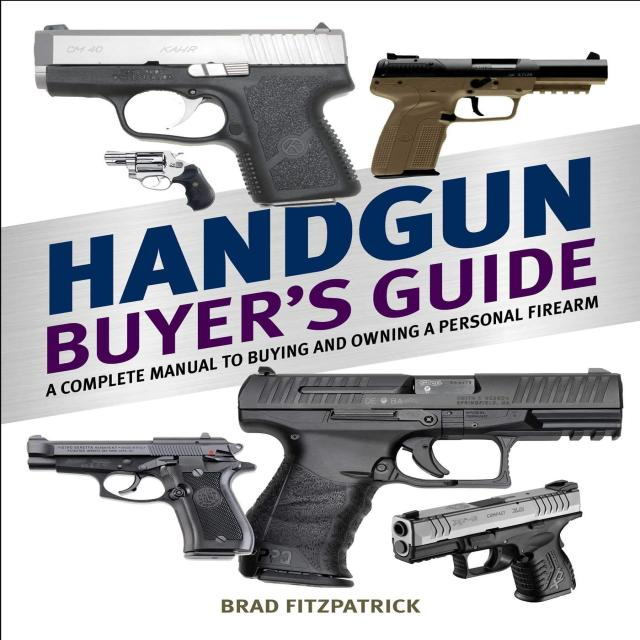Weapon: (241, 371, 630, 587), (29, 24, 371, 202), (24, 429, 265, 567), (362, 54, 613, 178), (388, 488, 597, 605), (95, 146, 222, 213)
